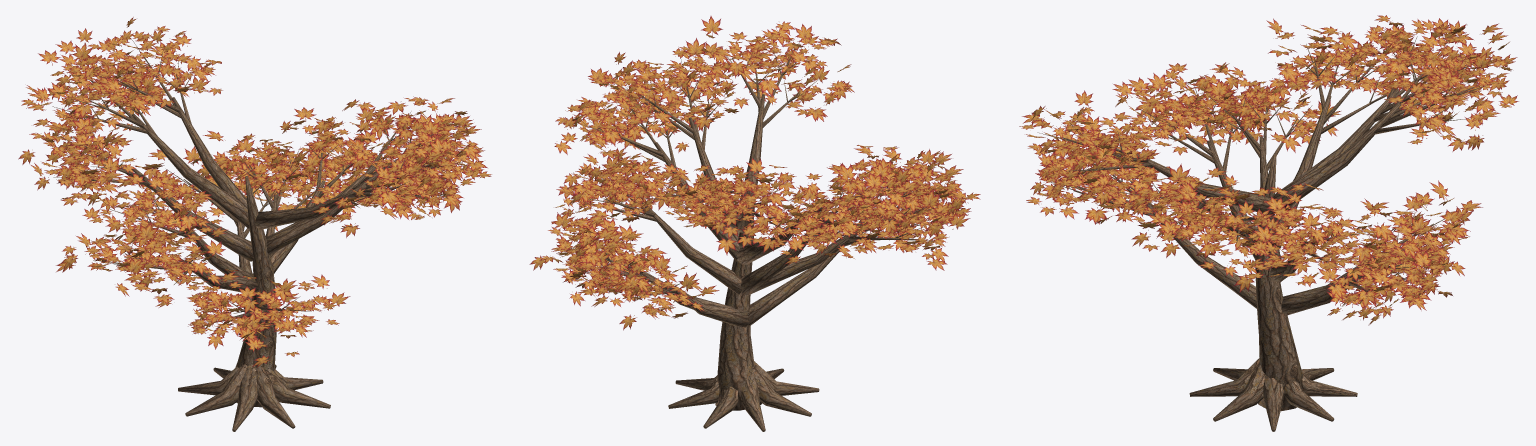
File: MaplePolish_1_Far.fbx
3 renders of one model, left to right at view 1: azimuth 30°, elevation 25°; view 2: azimuth 150°, elevation 25°; view 3: azimuth 270°, elevation 25°, orthographic. The views are drawn at different scales.
Visible parts, largest first — view 1: MaplePolish_1_Far_Leaves, MaplePolish_1_Far_Wood; view 2: MaplePolish_1_Far_Leaves, MaplePolish_1_Far_Wood; view 3: MaplePolish_1_Far_Leaves, MaplePolish_1_Far_Wood.
Part boxes in pixels (x1,y1,x2,y2): MaplePolish_1_Far_Leaves: (18,17,491,367); MaplePolish_1_Far_Wood: (52,40,464,431); MaplePolish_1_Far_Leaves: (529,16,980,330); MaplePolish_1_Far_Wood: (567,42,943,431); MaplePolish_1_Far_Leaves: (1019,15,1518,325); MaplePolish_1_Far_Wood: (1037,36,1496,431).
Size of the model in its own units: 11.87 by 8.84 by 12.1.
